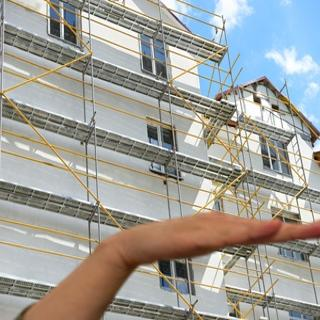WAIT: (105, 202, 320, 268)
